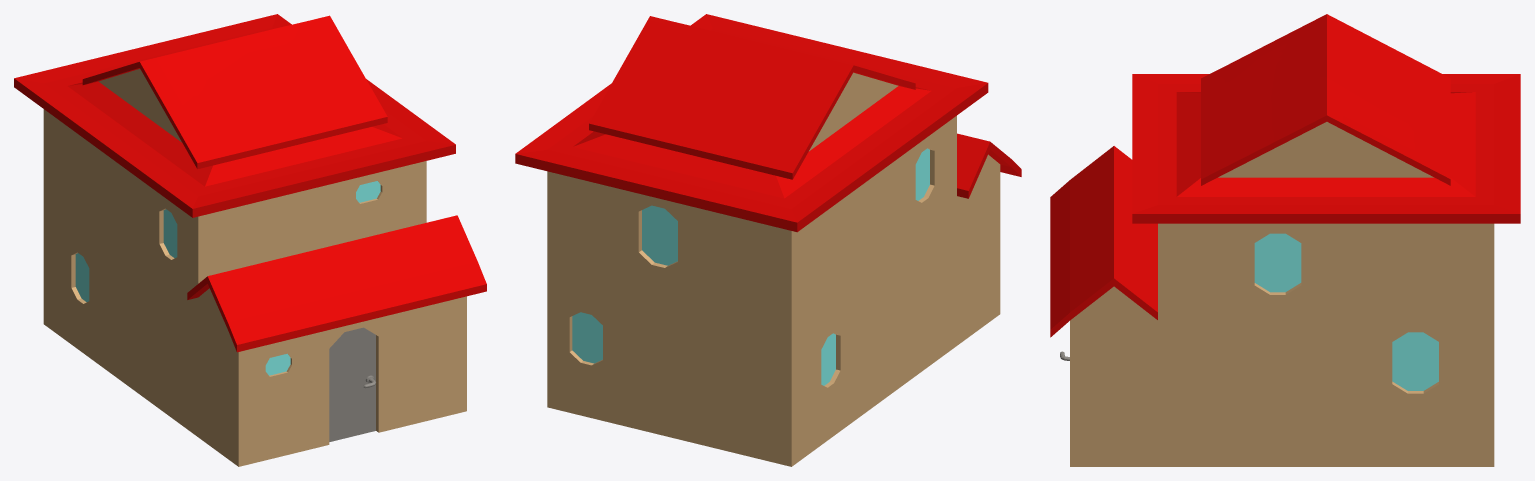
The model's file is Fancy_House.fbx.
3 views of the same model, side by side, from view 1: azimuth 30°, elevation 25°; view 2: azimuth 150°, elevation 25°; view 3: azimuth 270°, elevation 25° (orthographic). The views are drawn at different scales.
Parts seen in each view (by area): view 1: Fancy_House; view 2: Fancy_House; view 3: Fancy_House.
Boxes of the visible parts, x1,y1,x2,y2 form: Fancy_House: [14, 14, 486, 466]; Fancy_House: [515, 14, 1021, 466]; Fancy_House: [1050, 14, 1520, 466].
Size of the model in its own units: 8655 by 9863 by 12302.
